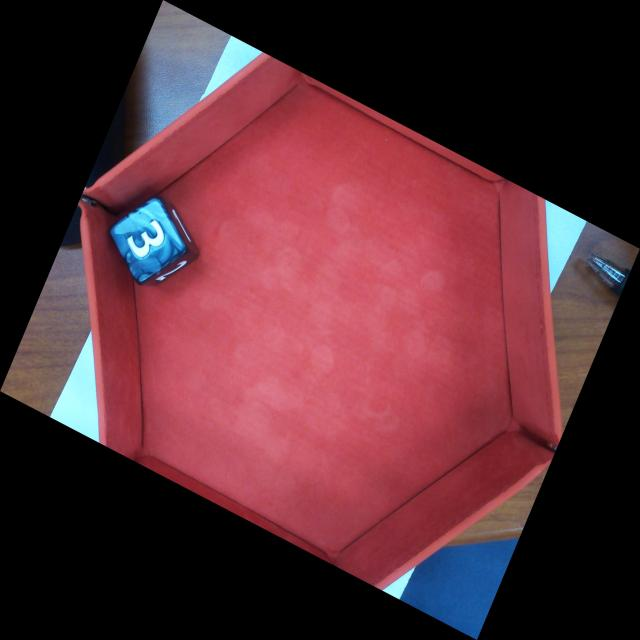dice: (113, 199, 187, 285)
